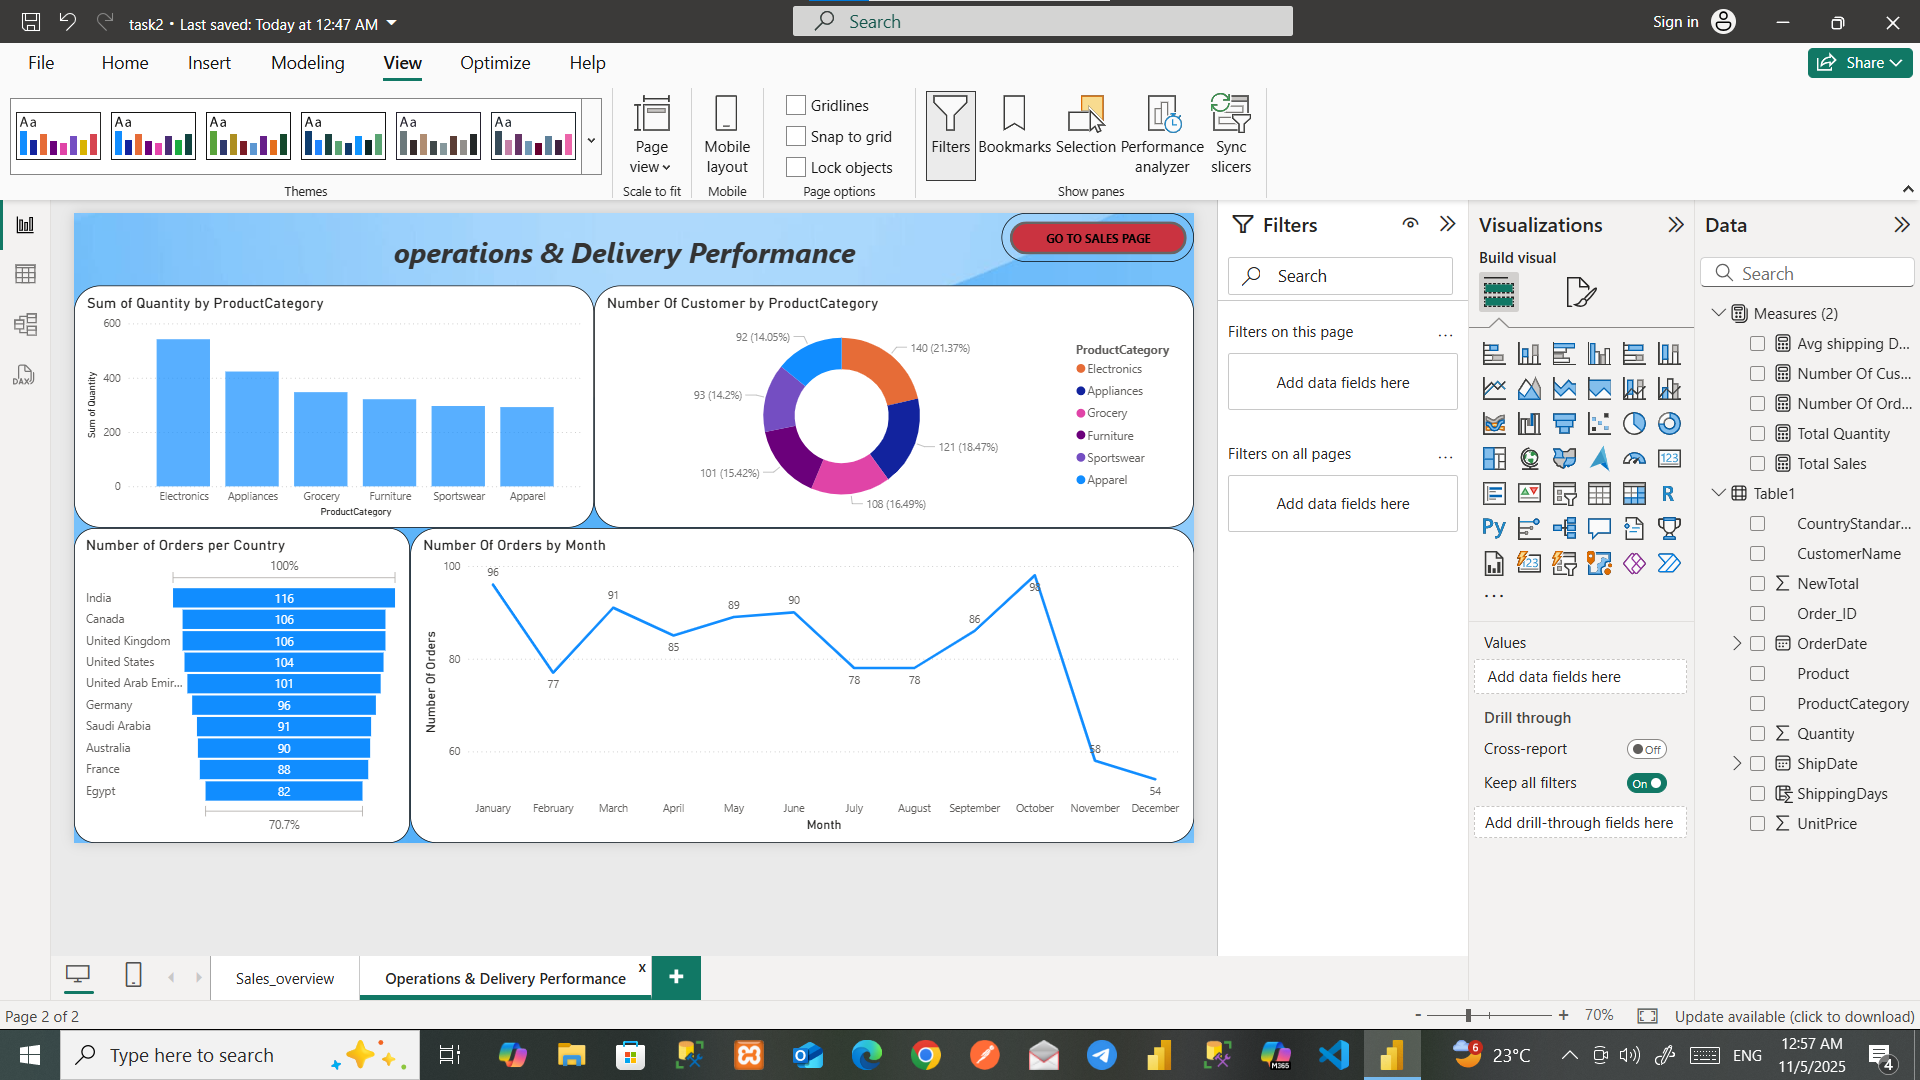

This screenshot's page, from the dashboard's own definition file:
{"tool":"powerbi","page":{"name":"Operations & Delivery Performance ","canvas":[1280,720],"ordinal":1},"visuals":[{"type":"funnel","title":"Number of Orders per Country","fields":{"Category":["Table1.CountryStandardized2"],"Y":["Measures (2).Number Of Orders"]},"box":[0,360,384.3,360],"z":0},{"type":"clusteredColumnChart","fields":{"Category":["Table1.ProductCategory"],"Y":["Sum(Table1.Quantity)"]},"box":[0,82.9,594.3,277.1],"z":1},{"type":"lineChart","fields":{"Category":["Table1.OrderDate.Variation.Date Hierarchy.Year","Table1.OrderDate.Variation.Date Hierarchy.Quarter","Table1.OrderDate.Variation.Date Hierarchy.Month","Table1.OrderDate.Variation.Date Hierarchy.Day"],"Y":["Measures (2).Number Of Orders"]},"box":[384.3,360,895.7,360],"z":2},{"type":"donutChart","fields":{"Category":["Table1.ProductCategory"],"Y":["Measures (2).Number Of Customer"]},"box":[594.3,82.9,685.7,277.1],"z":3},{"type":"textbox","box":[205.8,0,838.4,89.2],"z":4},{"type":"actionButton","box":[1060,0,220,55.7],"z":5}]}

Visuals, with their boxes on the page's 1280x720 design canvas (x1, y1, x2, y2). These are canvas units, not pixel positions in the 1920x1080 screenshot, which may show the page scaled, cropped or inside an application window:
"Number of Orders per Country" funnel: box(0, 360, 384, 720)
clusteredColumnChart - Table1.ProductCategory x Sum(Table1.Quantity): box(0, 83, 594, 360)
lineChart - Table1.OrderDate.Variation.Date Hierarchy.Year x Table1.OrderDate.Variation.Date Hierarchy.Quarter: box(384, 360, 1280, 720)
donutChart - Table1.ProductCategory x Measures (2).Number Of Customer: box(594, 83, 1280, 360)
textbox: box(206, 0, 1044, 89)
actionButton: box(1060, 0, 1280, 56)
